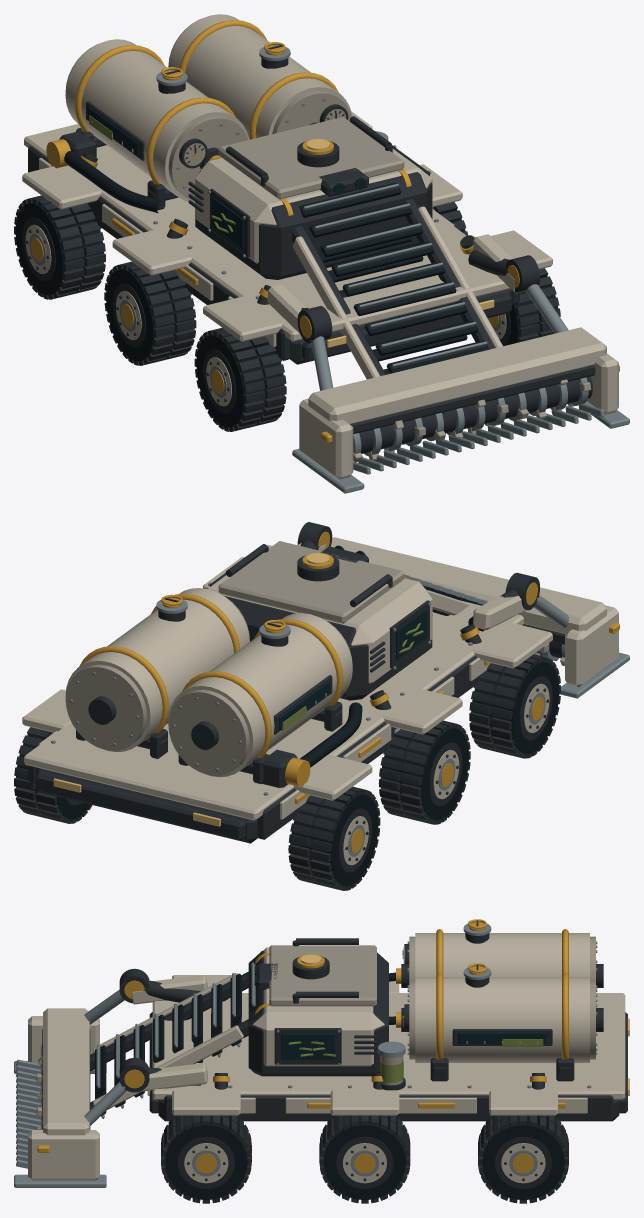
Rendered from yushirover_d0_lod0.glb.
3 views of the same model, one above another, from view 1: azimuth 30°, elevation 25°; view 2: azimuth 150°, elevation 25°; view 3: azimuth 270°, elevation 25° (orthographic). The views are drawn at different scales.
Visible parts, largest first — view 1: CHASSIS_PROCESSOR_SURFACE, PICKUP_CASSETTE, TANK_0_SURFACE, TANK_1_SURFACE, WHEEL_L1_SURFACE, WHEEL_L2_SURFACE, WHEEL_L3_SURFACE, PICKUP_ROTOR, WHEEL_R3_SURFACE, CONVEYOR_SLAT_SURFACE_6, CONVEYOR_SLAT_SURFACE_8, CONVEYOR_SLAT_SURFACE_9 (+6 smaller); view 2: CHASSIS_PROCESSOR_SURFACE, TANK_0_SURFACE, TANK_1_SURFACE, PICKUP_CASSETTE, WHEEL_L2_SURFACE, WHEEL_L1_SURFACE, WHEEL_L3_SURFACE, WHEEL_R1_SURFACE; view 3: CHASSIS_PROCESSOR_SURFACE, TANK_1_SURFACE, PICKUP_CASSETTE, TANK_0_SURFACE, WHEEL_R2_SURFACE, WHEEL_R1_SURFACE, WHEEL_R3_SURFACE, CONVEYOR_SLAT_SURFACE_9, CONVEYOR_SLAT_SURFACE_5, CONVEYOR_SLAT_SURFACE_6, CONVEYOR_SLAT_SURFACE_7, CONVEYOR_SLAT_SURFACE_8 (+3 smaller).
Boxes of the visible parts, <box> form: CHASSIS_PROCESSOR_SURFACE: <box>22,111,568,390</box>; PICKUP_CASSETTE: <box>292,327,629,493</box>; TANK_0_SURFACE: <box>65,39,249,210</box>; TANK_1_SURFACE: <box>168,14,352,139</box>; WHEEL_L1_SURFACE: <box>14,195,105,299</box>; WHEEL_L2_SURFACE: <box>104,261,196,365</box>; WHEEL_L3_SURFACE: <box>194,327,286,431</box>; PICKUP_ROTOR: <box>353,376,592,462</box>; WHEEL_R3_SURFACE: <box>488,268,560,345</box>; CONVEYOR_SLAT_SURFACE_6: <box>342,261,445,296</box>; CONVEYOR_SLAT_SURFACE_8: <box>320,222,423,257</box>; CONVEYOR_SLAT_SURFACE_9: <box>309,202,412,237</box>; CHASSIS_PROCESSOR_SURFACE: <box>22,522,569,843</box>; TANK_0_SURFACE: <box>168,613,352,783</box>; TANK_1_SURFACE: <box>65,588,249,758</box>; PICKUP_CASSETTE: <box>331,537,629,698</box>; WHEEL_L2_SURFACE: <box>378,720,470,824</box>; WHEEL_L1_SURFACE: <box>288,786,380,890</box>; WHEEL_L3_SURFACE: <box>469,654,560,758</box>; WHEEL_R1_SURFACE: <box>14,727,92,823</box>; CHASSIS_PROCESSOR_SURFACE: <box>84,938,629,1126</box>; TANK_1_SURFACE: <box>401,966,603,1081</box>; PICKUP_CASSETTE: <box>14,1008,106,1187</box>; TANK_0_SURFACE: <box>401,922,603,1004</box>; WHEEL_R2_SURFACE: <box>319,1115,410,1203</box>; WHEEL_R1_SURFACE: <box>478,1115,568,1203</box>; WHEEL_R3_SURFACE: <box>161,1115,251,1203</box>; CONVEYOR_SLAT_SURFACE_9: <box>230,972,241,1022</box>; CONVEYOR_SLAT_SURFACE_5: <box>153,1013,164,1062</box>; CONVEYOR_SLAT_SURFACE_6: <box>172,1003,183,1053</box>; CONVEYOR_SLAT_SURFACE_7: <box>191,993,202,1042</box>; CONVEYOR_SLAT_SURFACE_8: <box>211,983,222,1032</box>.
Size of the model in its own units: 5.43 by 3.53 by 10.29.
